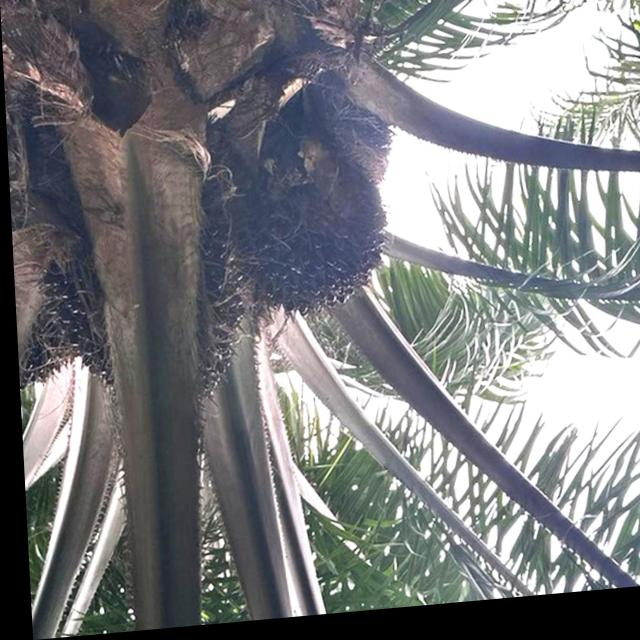unripe: (230, 150, 396, 329)
